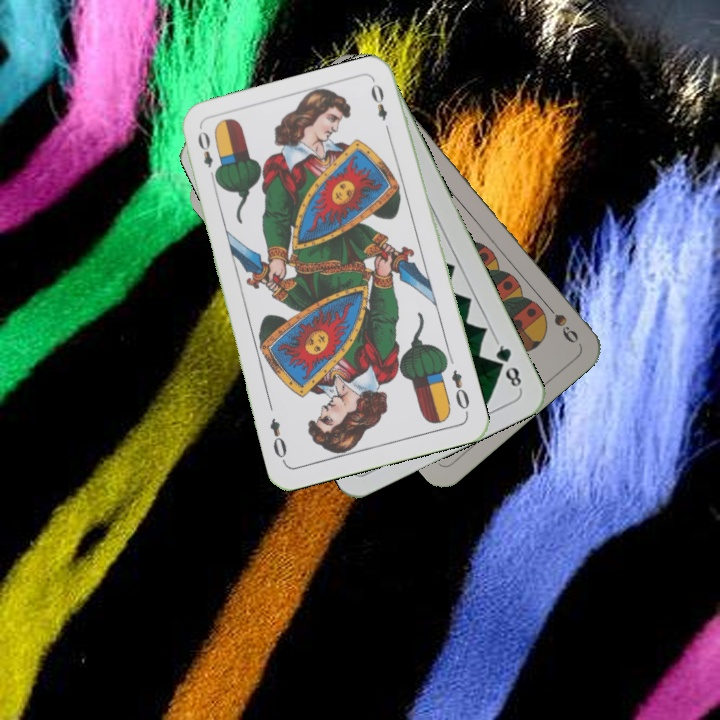EO: (193, 127, 221, 184), (447, 366, 472, 417)
G8: (491, 337, 525, 392)
S9: (538, 296, 582, 347)
